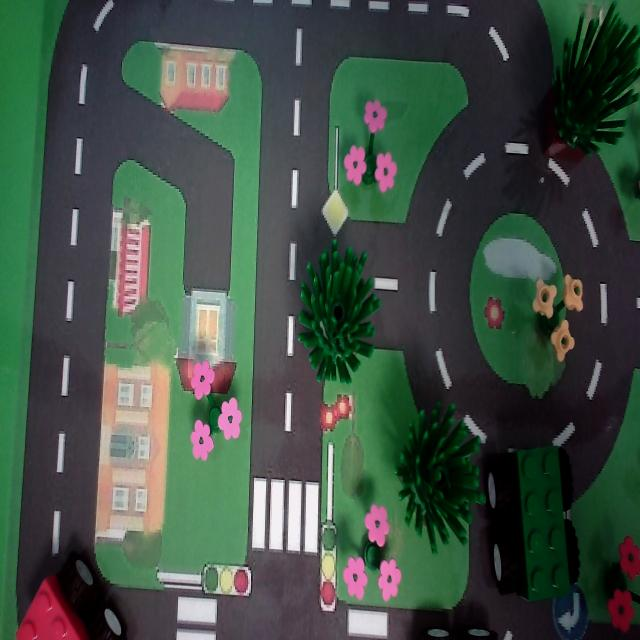Car: (478, 428, 594, 612), (17, 546, 137, 640)
Flower: (342, 488, 407, 614), (340, 92, 404, 204), (532, 268, 598, 370), (184, 358, 244, 468), (598, 527, 640, 640)
Tree: (524, 0, 640, 193), (283, 232, 387, 394), (400, 391, 482, 557)
